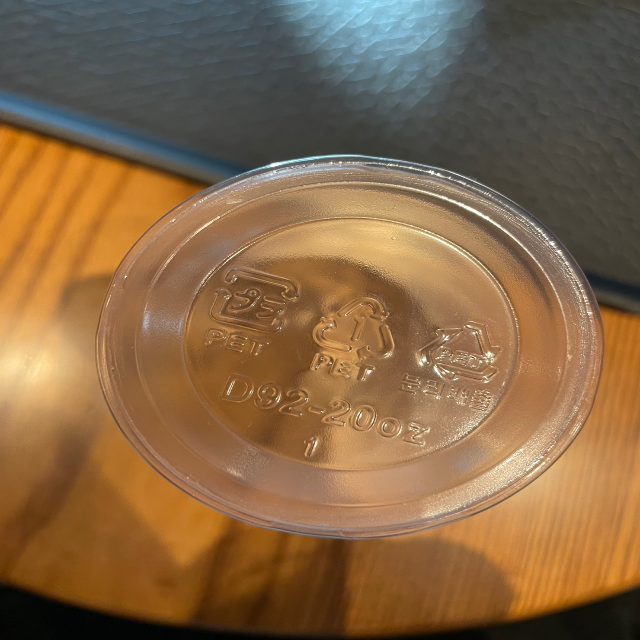pet: (196, 259, 302, 360), (400, 316, 503, 415), (304, 287, 397, 389)
